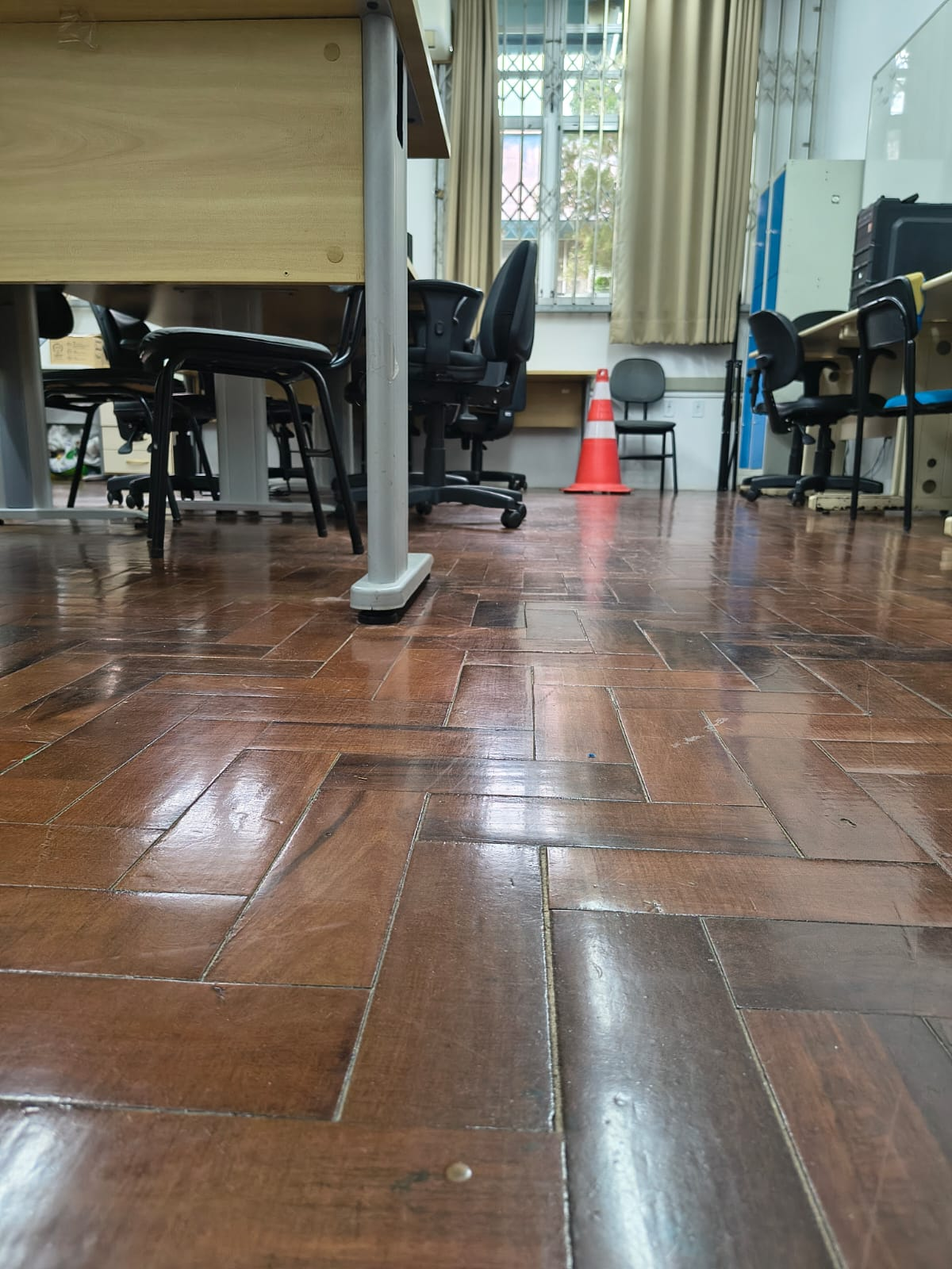cone: (566, 363, 643, 510)
